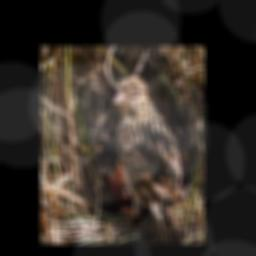Sparrow: (111, 75, 186, 243)
